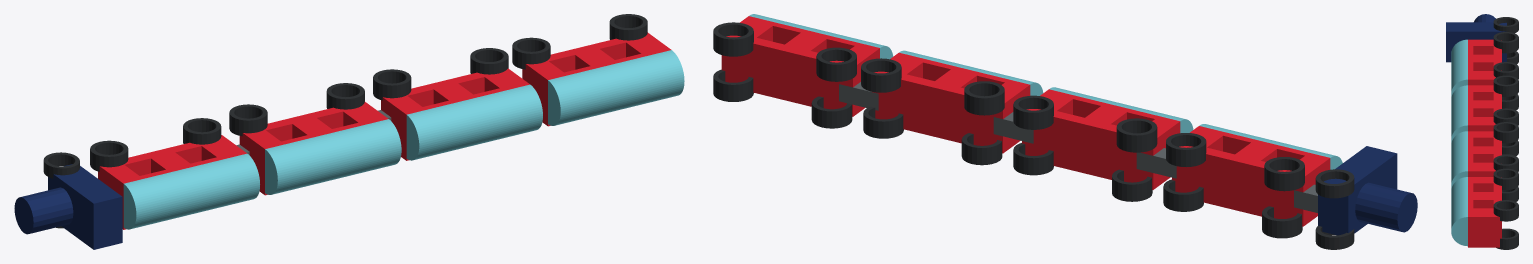
Rendered from tinker.obj.
3 views of the same model, side by side, from view 1: azimuth 30°, elevation 25°; view 2: azimuth 150°, elevation 25°; view 3: azimuth 270°, elevation 25° (orthographic). The views are drawn at different scales.
Parts seen in each view (by area): view 1: group_0_7720667, group_0_15277357, group_0_2829873, group_0_1650274; view 2: group_0_15277357, group_0_2829873, group_0_1650274, group_0_7720667, group_0_6383466; view 3: group_0_15277357, group_0_2829873, group_0_7720667, group_0_1650274.
Boxes of the visible parts, bbox=[...] form: group_0_7720667: bbox=[123, 50, 684, 229]; group_0_15277357: bbox=[98, 32, 671, 229]; group_0_2829873: bbox=[43, 14, 647, 228]; group_0_1650274: bbox=[14, 164, 122, 249]; group_0_15277357: bbox=[721, 16, 1330, 226]; group_0_2829873: bbox=[713, 22, 1354, 249]; group_0_1650274: bbox=[1318, 146, 1417, 235]; group_0_7720667: bbox=[749, 14, 1342, 169]; group_0_6383466: bbox=[839, 82, 1317, 212]; group_0_15277357: bbox=[1468, 39, 1501, 247]; group_0_2829873: bbox=[1493, 17, 1518, 249]; group_0_7720667: bbox=[1451, 39, 1467, 246]; group_0_1650274: bbox=[1446, 14, 1506, 62].
Bounding box in the file's own units: 288 × 27.5 × 43.
